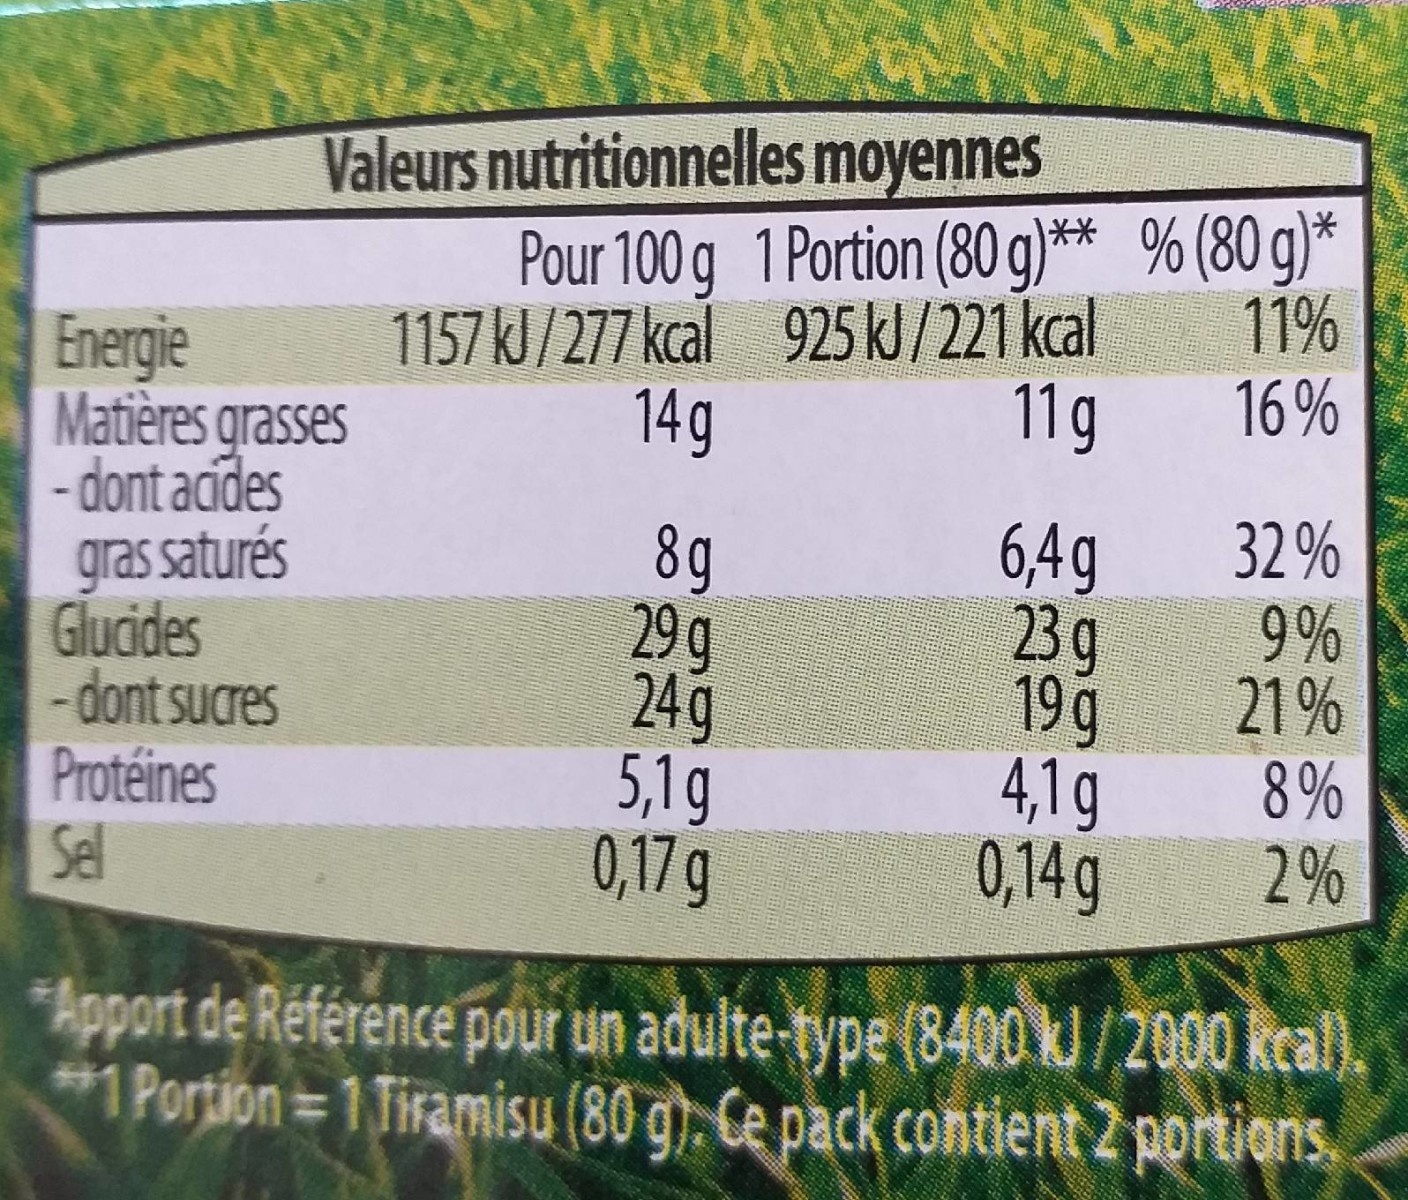column: (737, 214, 1112, 954), (383, 220, 732, 951), (36, 220, 370, 951), (1128, 211, 1366, 958)
table: (29, 214, 1376, 935)
